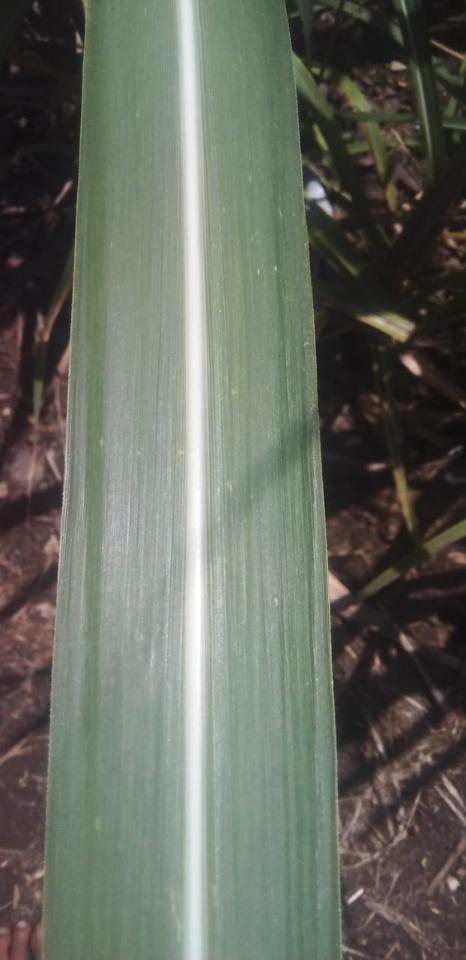Healthy: (44, 0, 340, 959)
